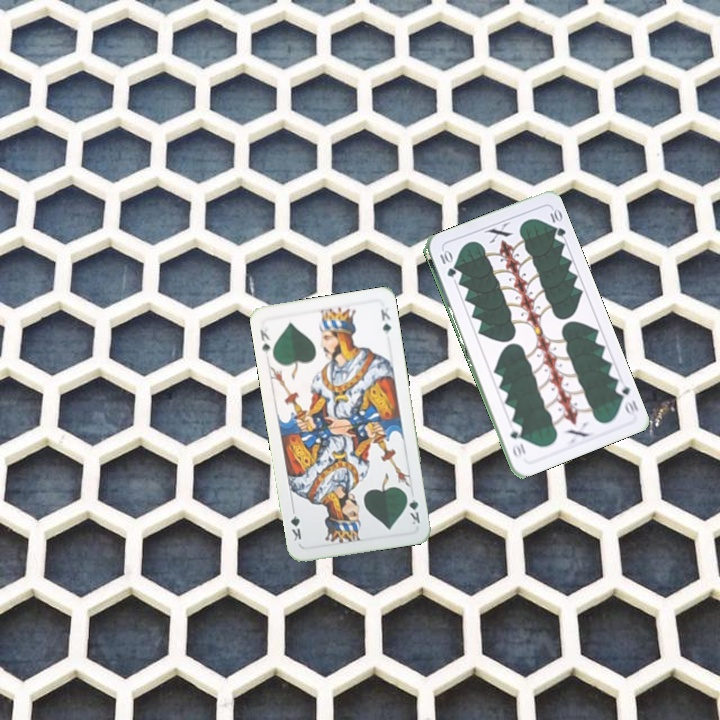G10: (611, 378, 641, 417), (436, 246, 457, 280)
GK: (402, 489, 423, 527), (256, 326, 274, 361)
